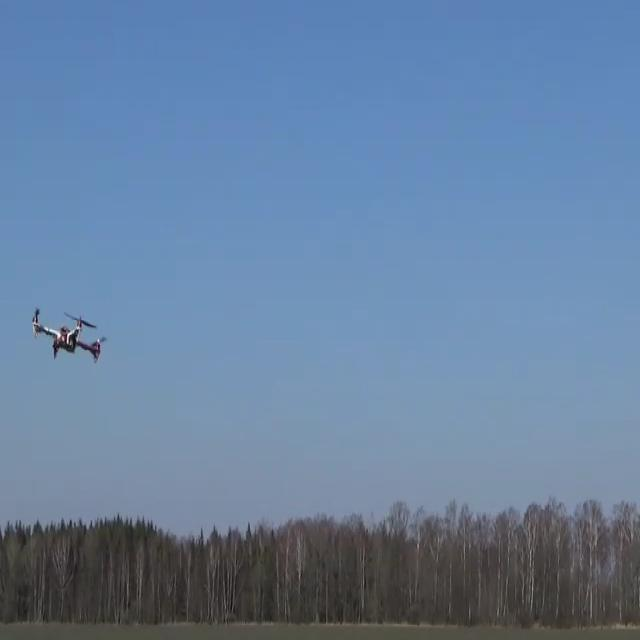Drone: (23, 300, 118, 369)
